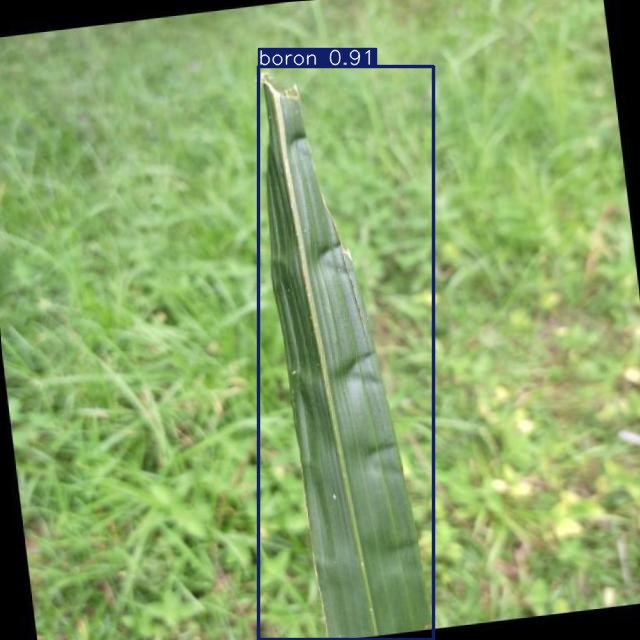nitrogen: (258, 67, 434, 640)
